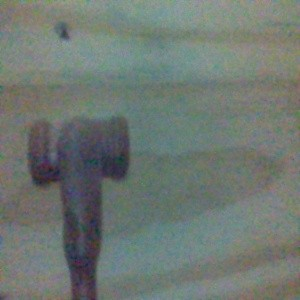palu: (26, 112, 130, 300)
